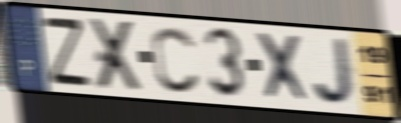3: (201, 26, 248, 102)
C: (150, 24, 203, 96)
J: (310, 36, 359, 108)
X: (252, 30, 314, 106), (89, 17, 146, 93)
Z: (39, 15, 93, 87)
